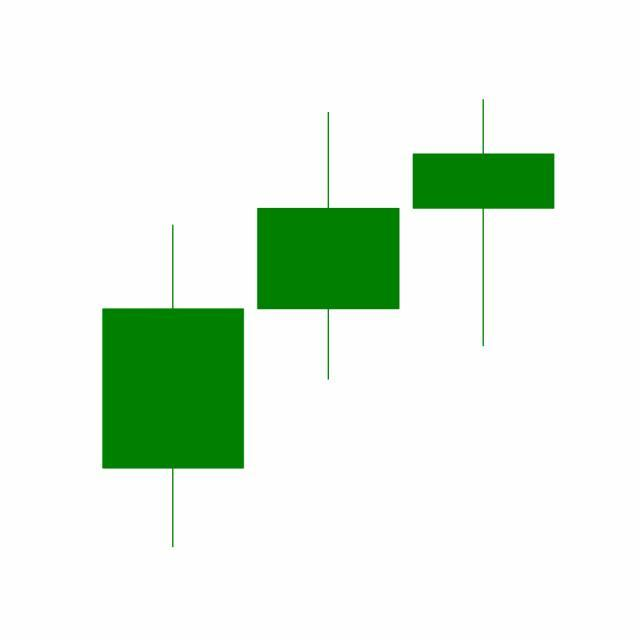Spinning Top: (406, 97, 562, 350)
